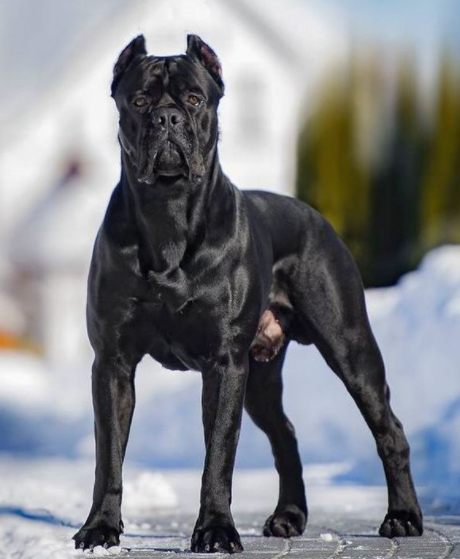dog: (74, 35, 425, 548)
